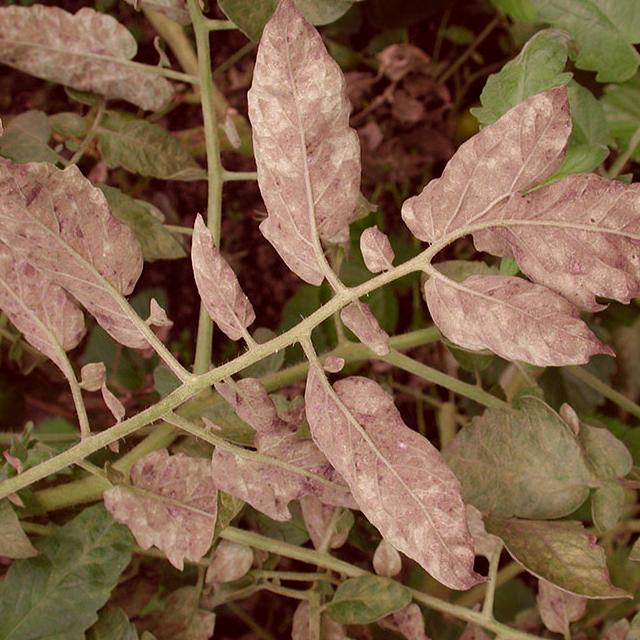Tomato mold leaf: (444, 393, 618, 512), (0, 513, 131, 640), (623, 550, 640, 640), (627, 478, 640, 566)
